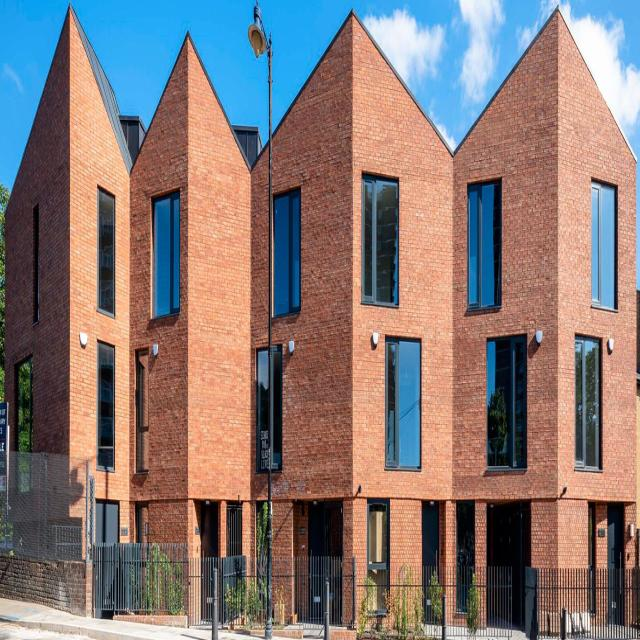door: (308, 502, 343, 627), (95, 502, 119, 621), (606, 500, 624, 631), (368, 497, 392, 559), (457, 504, 475, 564), (423, 500, 438, 561), (200, 506, 219, 553)
railing: (93, 544, 637, 633), (226, 503, 242, 556)
window: (487, 339, 525, 472), (386, 340, 420, 472), (363, 179, 397, 307), (468, 186, 501, 311), (273, 190, 300, 318), (153, 195, 180, 321), (575, 338, 600, 473), (592, 180, 615, 313), (257, 353, 281, 473), (17, 358, 33, 500), (97, 344, 114, 474), (98, 192, 114, 318), (135, 356, 149, 474)
